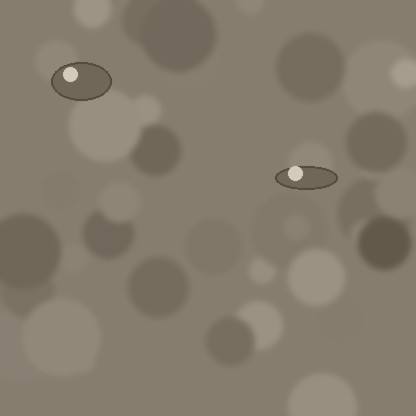gota: (51, 63, 111, 103), (275, 167, 337, 191)
